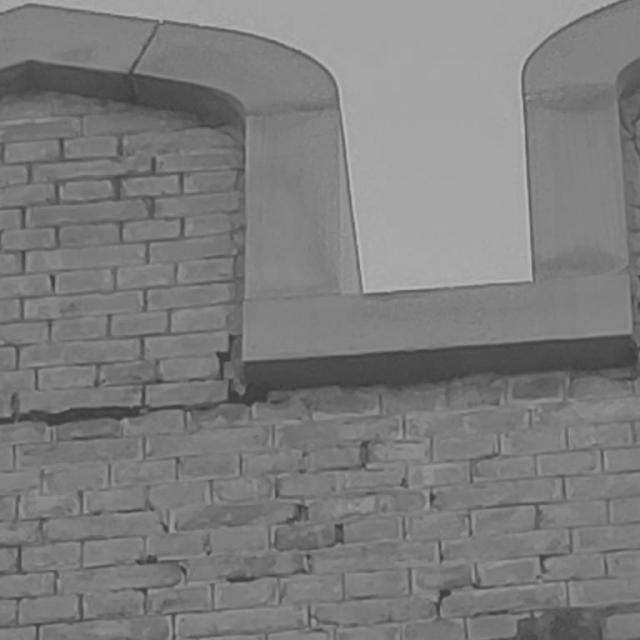crack: (1, 332, 291, 428), (159, 114, 242, 303), (616, 99, 640, 153)
